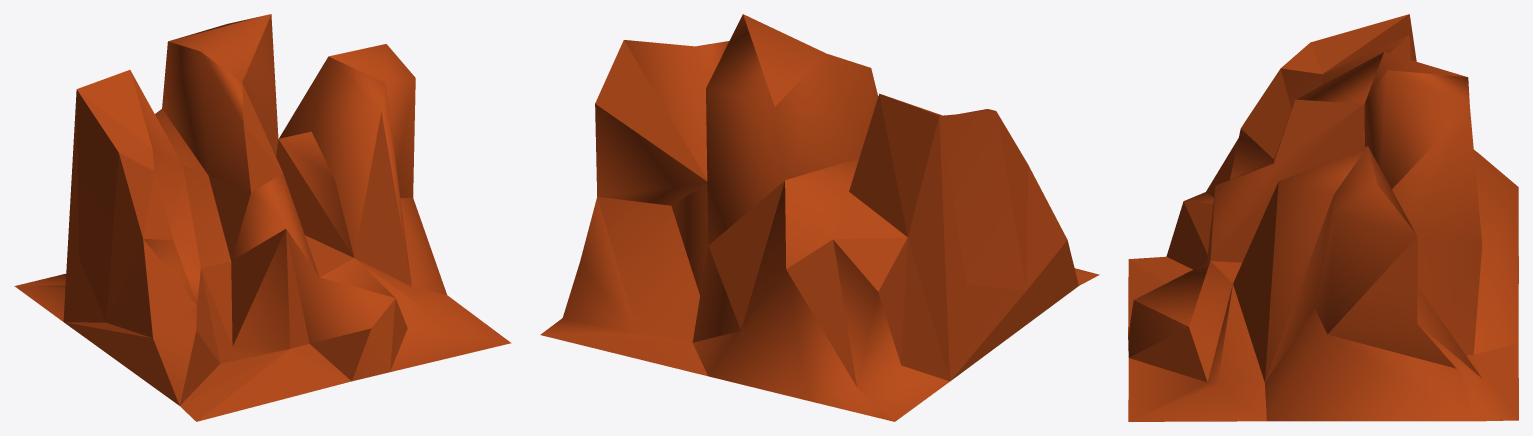
File: Mountain_desert_003.glb
The picture shows the model from 3 angles, left to right: view 1: azimuth 30°, elevation 25°; view 2: azimuth 150°, elevation 25°; view 3: azimuth 270°, elevation 25°; orthographic projection. The views are drawn at different scales.
Visible parts, largest first — view 1: Mountain_desert_003; view 2: Mountain_desert_003; view 3: Mountain_desert_003.
Boxes of the visible parts, left/top/right/bottom form: Mountain_desert_003: left=14, top=14, right=511, bottom=421; Mountain_desert_003: left=540, top=14, right=1099, bottom=421; Mountain_desert_003: left=1128, top=14, right=1518, bottom=421.
Size of the model in its own units: 23.92 by 18.94 by 23.01.
1 material, 1 textured.
